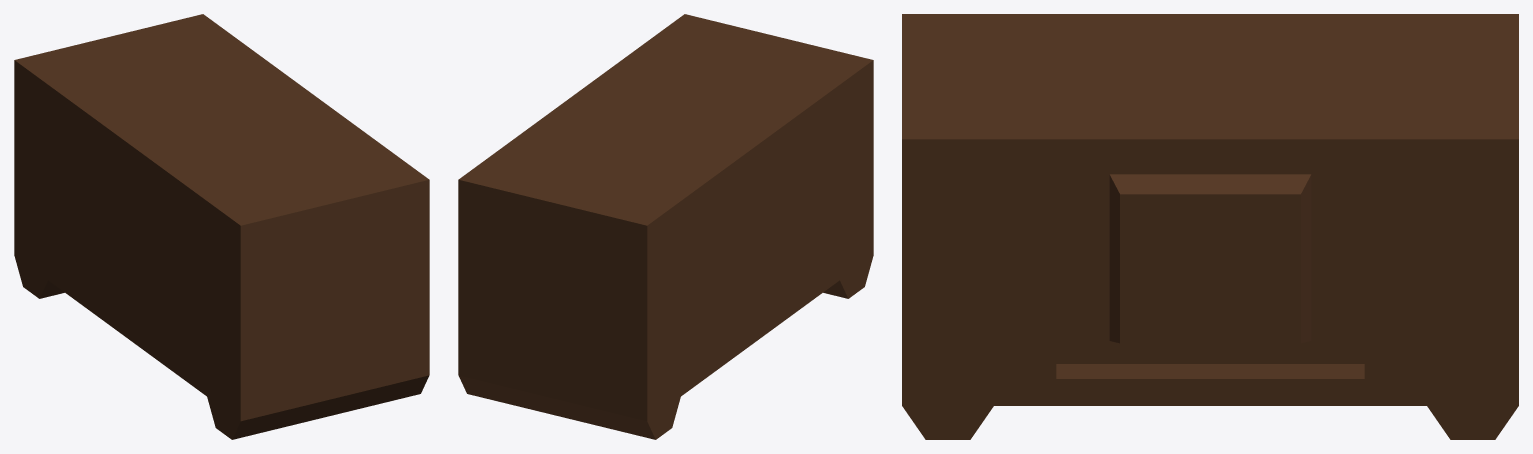
The model's file is table2.fbx.
The picture shows the model from 3 angles, left to right: view 1: azimuth 30°, elevation 25°; view 2: azimuth 150°, elevation 25°; view 3: azimuth 270°, elevation 25°; orthographic projection. The views are drawn at different scales.
Visible parts, largest first — view 1: table2; view 2: table2; view 3: table2.
Boxes of the visible parts, box(x1,y1,x2,y2) form: table2: box(14, 14, 429, 439); table2: box(458, 14, 873, 439); table2: box(902, 14, 1518, 439).
Bounding box in the file's own units: 98.03 × 109 × 204.
